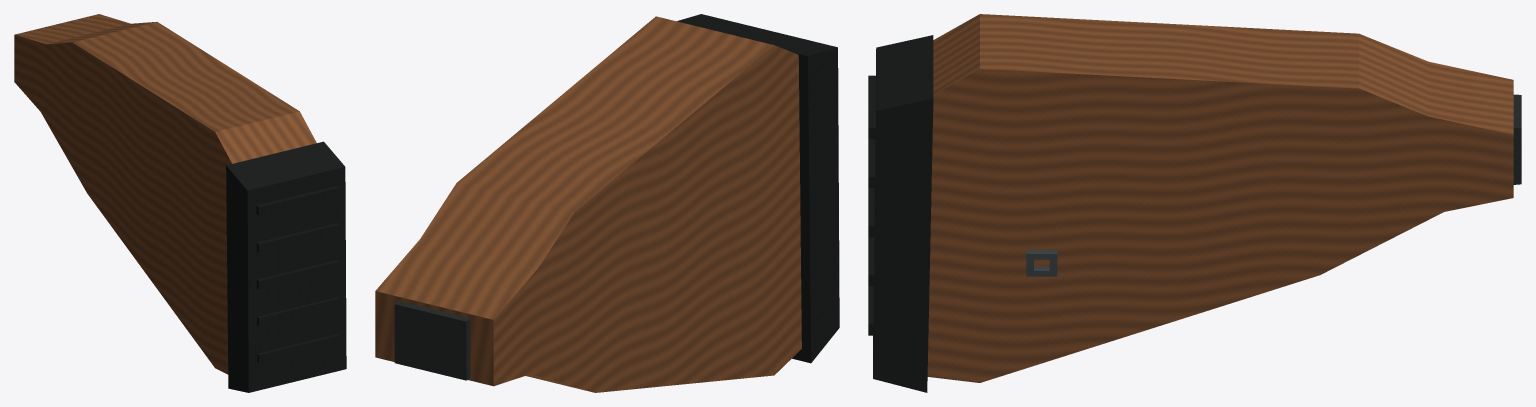
The model's file is ak_wood_stock.glb.
The picture shows the model from 3 angles, left to right: view 1: azimuth 30°, elevation 25°; view 2: azimuth 150°, elevation 25°; view 3: azimuth 270°, elevation 25°; orthographic projection. The views are drawn at different scales.
Visible parts, largest first — view 1: ak_wood_stock_tapered_stock.001, ak_wood_stock_tapered_stock, ak_wood_stock_buttpad, ak_wood_stock_buttpad.001; view 2: ak_wood_stock_tapered_stock, ak_wood_stock_tapered_stock.001, ak_wood_stock_buttpad, ak_wood_stock_buttpad.001, ak_wood_stock_receiver_neck, ak_wood_stock_receiver_neck.001; view 3: ak_wood_stock_tapered_stock, ak_wood_stock_tapered_stock.001, ak_wood_stock_buttpad, ak_wood_stock_buttpad.001, ak_wood_stock_sling_eye, ak_wood_stock_receiver_neck.
Part boxes in pixels (x1,y1,x2,y2): ak_wood_stock_tapered_stock.001: (14, 14, 316, 374); ak_wood_stock_tapered_stock: (15, 15, 313, 371); ak_wood_stock_buttpad: (226, 143, 344, 390); ak_wood_stock_buttpad.001: (226, 141, 346, 392); ak_wood_stock_tapered_stock: (379, 23, 801, 388); ak_wood_stock_tapered_stock.001: (375, 16, 801, 392); ak_wood_stock_buttpad: (679, 15, 839, 360); ak_wood_stock_buttpad.001: (677, 14, 839, 363); ak_wood_stock_receiver_neck: (396, 301, 470, 378); ak_wood_stock_receiver_neck.001: (394, 301, 470, 380); ak_wood_stock_tapered_stock: (929, 28, 1510, 379); ak_wood_stock_tapered_stock.001: (927, 14, 1513, 382); ak_wood_stock_buttpad: (868, 36, 932, 390); ak_wood_stock_buttpad.001: (873, 35, 933, 392); ak_wood_stock_sling_eye: (1026, 250, 1057, 276); ak_wood_stock_receiver_neck: (1513, 95, 1519, 183).
Bounding box in the file's own units: 0.097 × 0.228 × 0.422.
4 materials, 4 textured.
